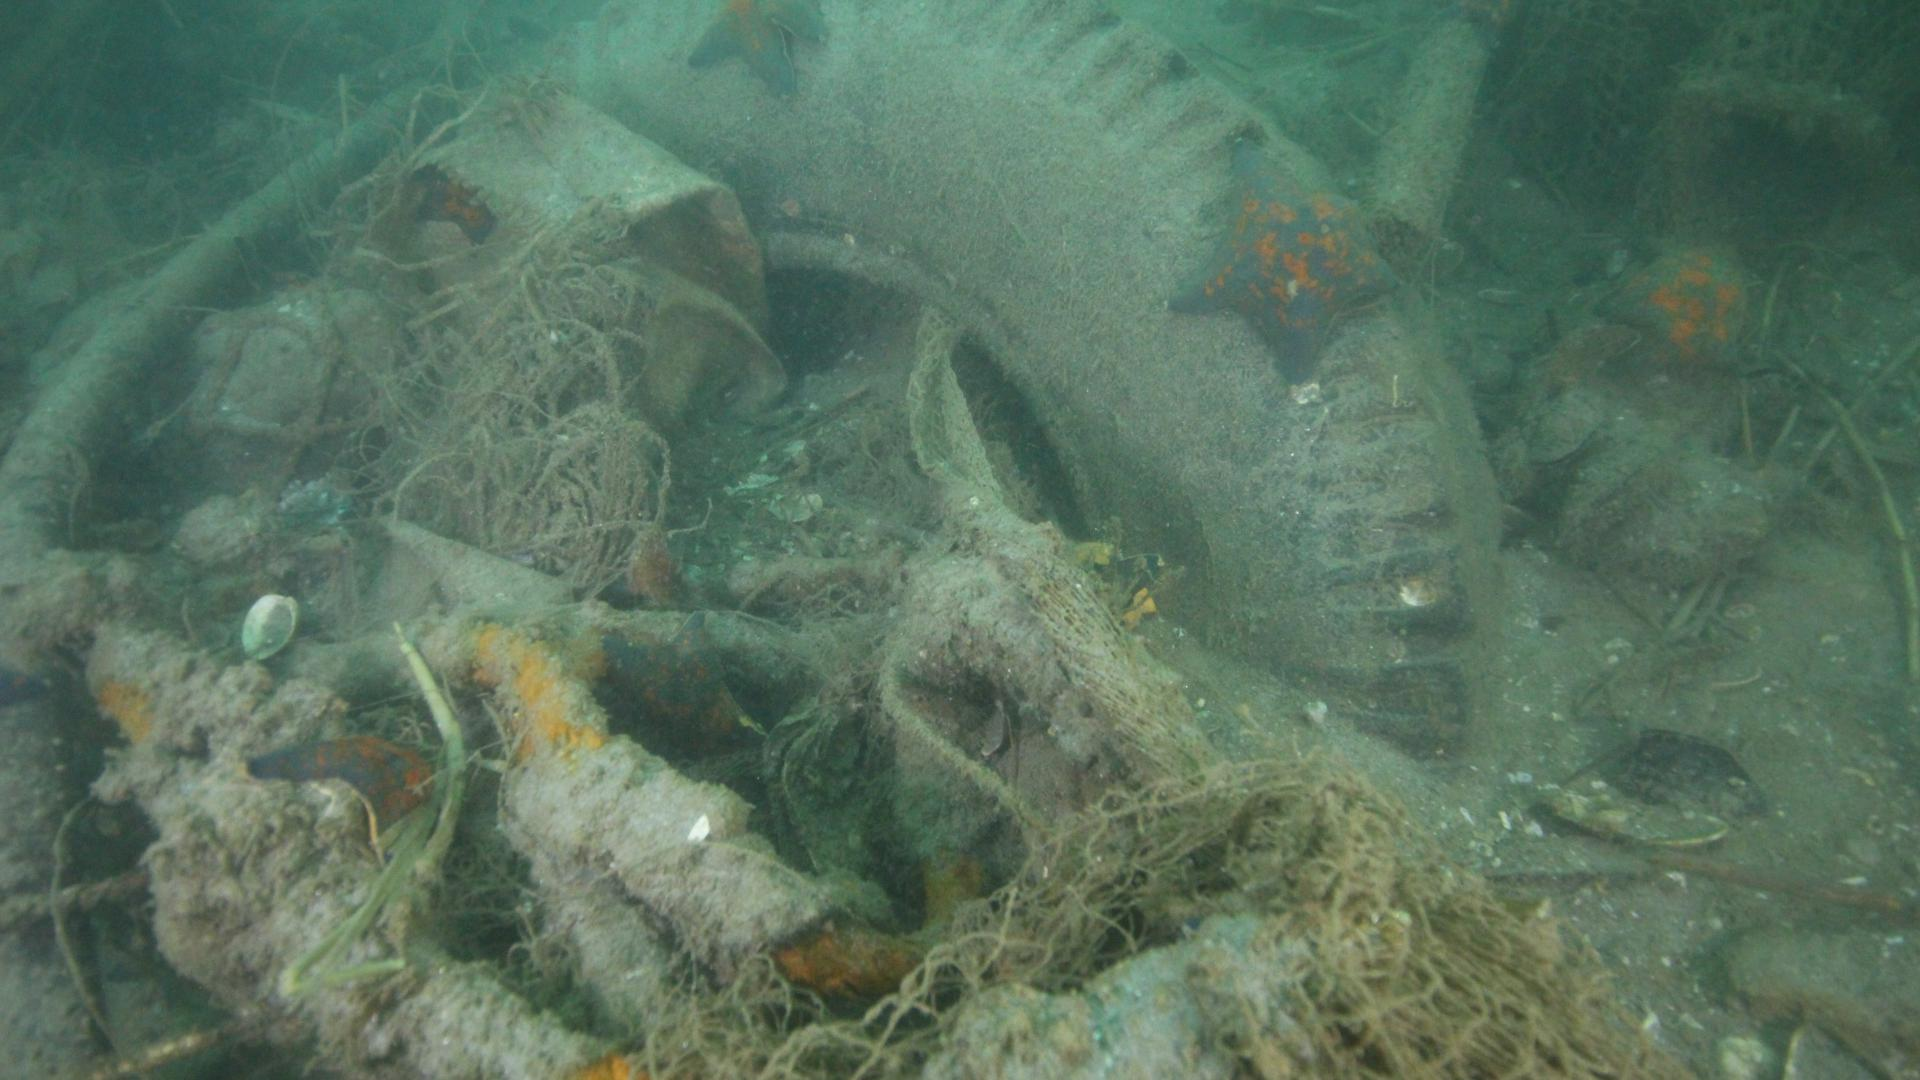fish net: (1511, 0, 1920, 173)
tire: (513, 3, 1505, 760)
